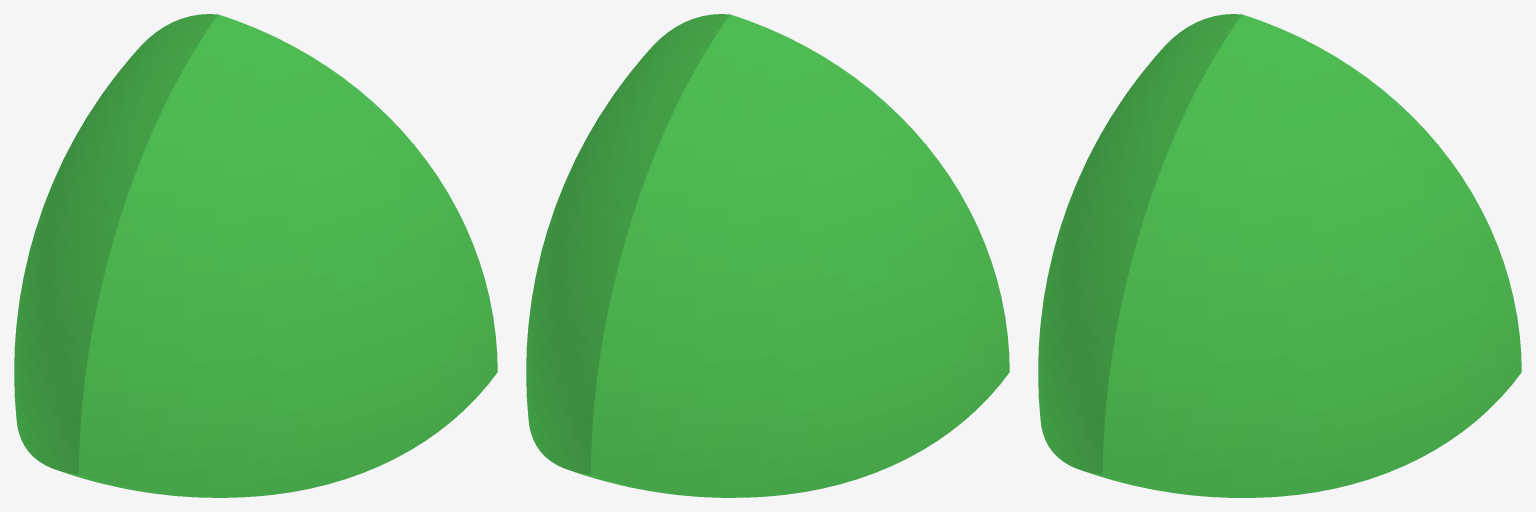
Rendered from TriballCustom-V3.glb.
3 views of the same model, side by side, from view 1: azimuth 30°, elevation 25°; view 2: azimuth 150°, elevation 25°; view 3: azimuth 270°, elevation 25° (orthographic).
Visible parts, largest first — view 1: TriballCustom-v2; view 2: TriballCustom-v2; view 3: TriballCustom-v2.
Boxes of the visible parts, bbox=[...] form: TriballCustom-v2: bbox=[14, 14, 497, 497]; TriballCustom-v2: bbox=[526, 14, 1009, 497]; TriballCustom-v2: bbox=[1038, 14, 1521, 497].
Bounding box in the file's own units: 181 × 181 × 181.
